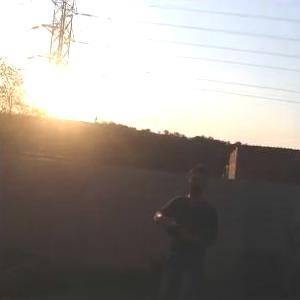follow: (146, 157, 228, 299)
